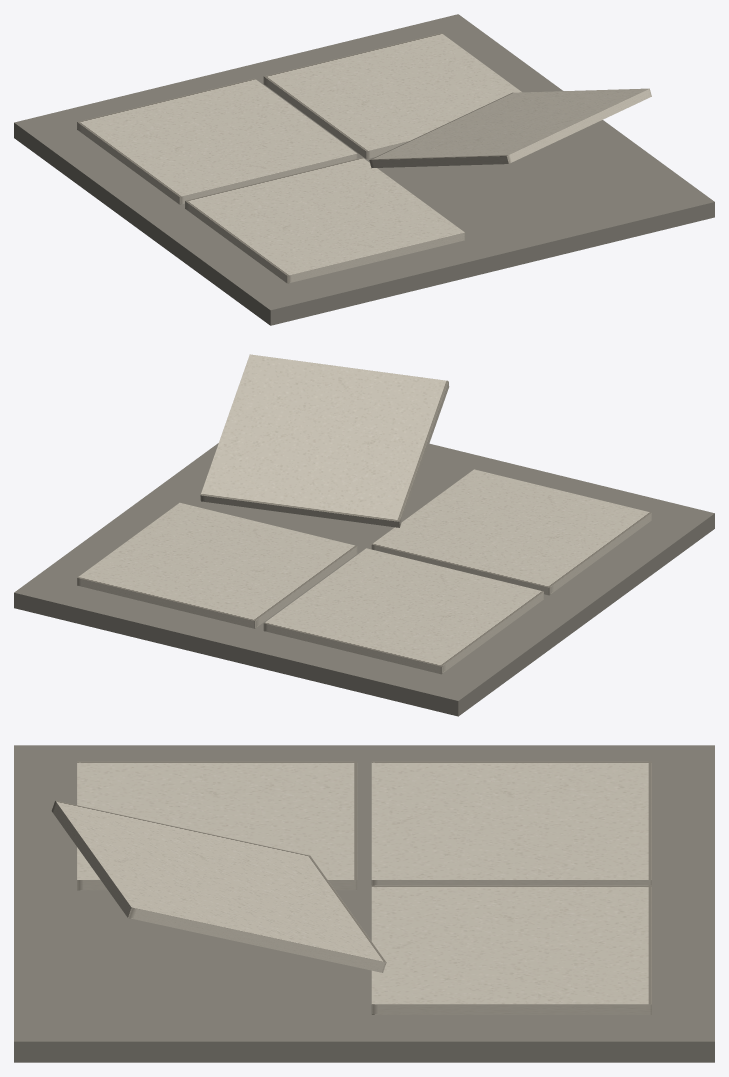
File: gach-op.glb
The picture shows the model from 3 angles, top to bottom: view 1: azimuth 30°, elevation 25°; view 2: azimuth 150°, elevation 25°; view 3: azimuth 270°, elevation 25°; orthographic projection. The views are drawn at different scales.
Bounding box in the file's own units: 1.5 × 0.3317 × 1.5.
2 materials, 1 textured.
